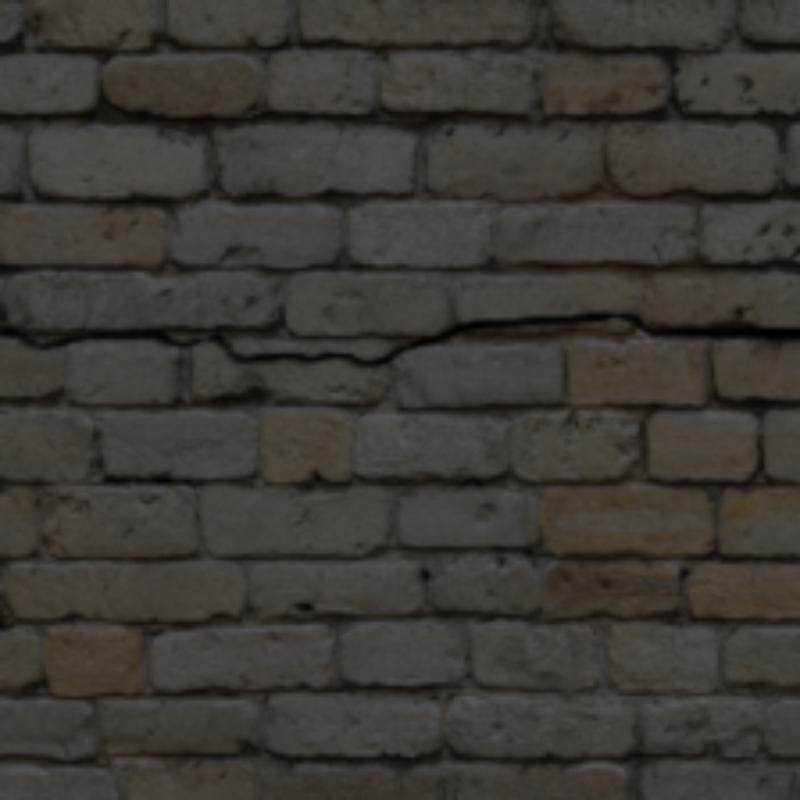crack: (0, 311, 796, 364)
